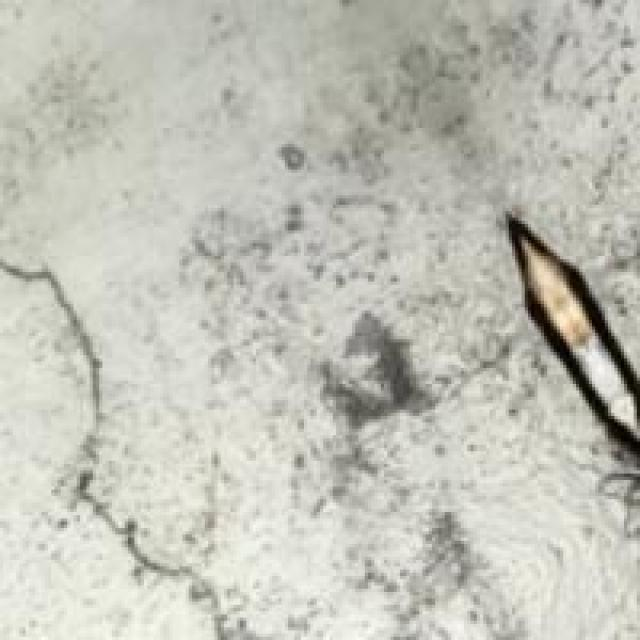Crack: (0, 237, 288, 637)
